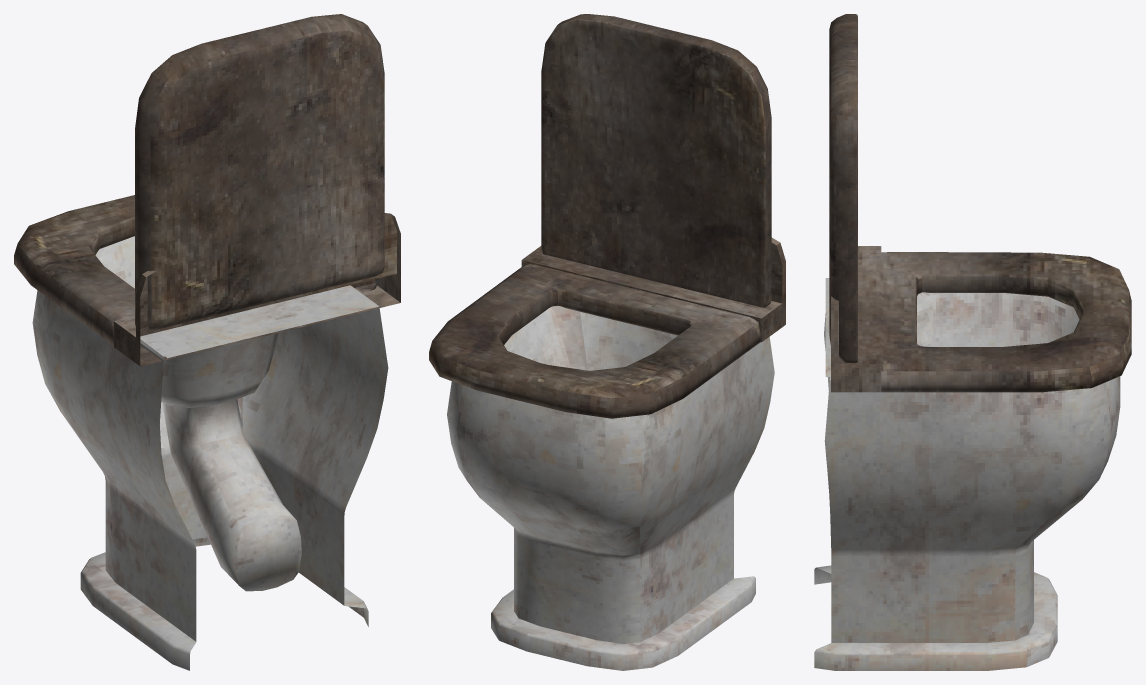
File: _Toilet_1.FBX
The picture shows the model from 3 angles, left to right: view 1: azimuth 30°, elevation 25°; view 2: azimuth 150°, elevation 25°; view 3: azimuth 270°, elevation 25°; orthographic projection. The views are drawn at different scales.
Parts seen in each view (by area): view 1: _Toilet_Base, _Toilet_Lid; view 2: _Toilet_Base, _Toilet_Lid; view 3: _Toilet_Base, _Toilet_Lid.
Boxes of the visible parts, x1,y1,x2,y2 form: _Toilet_Base: [14, 195, 400, 670]; _Toilet_Lid: [135, 14, 384, 329]; _Toilet_Base: [429, 237, 785, 670]; _Toilet_Lid: [541, 14, 771, 307]; _Toilet_Base: [814, 246, 1131, 670]; _Toilet_Lid: [829, 14, 857, 362].
Bounding box in the file's own units: 60.25 × 133 × 66.36.
Materials: 2 (2 with a texture image).
